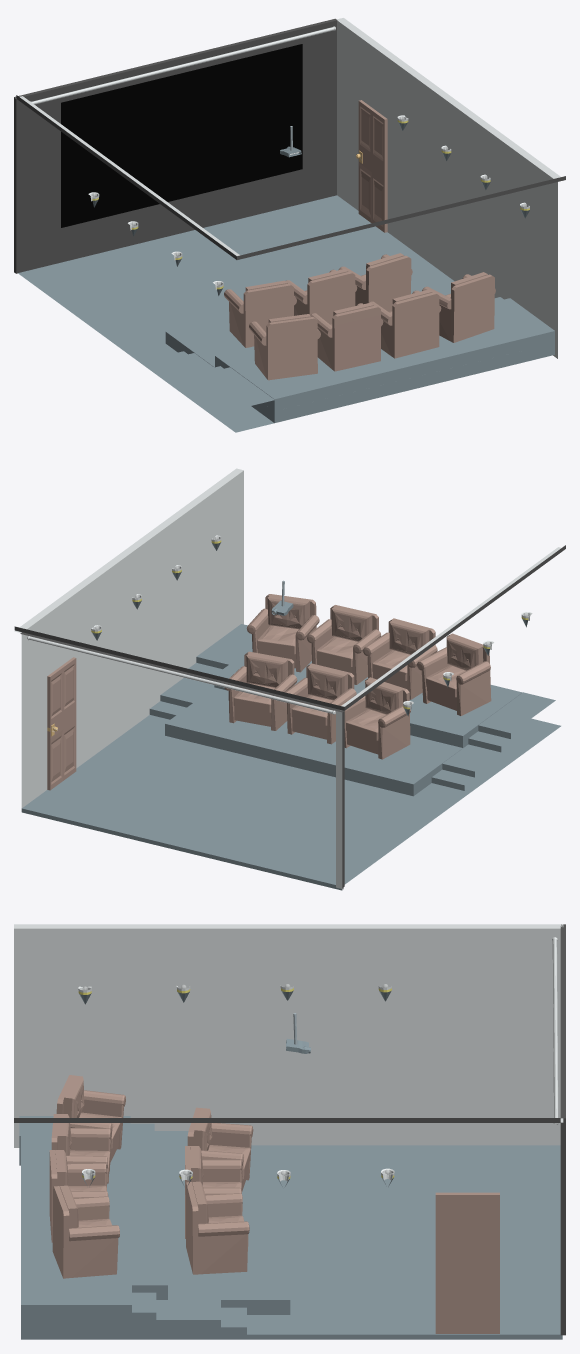
File: home-theater-new.gltf
The picture shows the model from 3 angles, top to bottom: view 1: azimuth 30°, elevation 25°; view 2: azimuth 150°, elevation 25°; view 3: azimuth 270°, elevation 25°; orthographic projection. The views are drawn at different scales.
Parts seen in each view (by area): view 1: mesh2057757694; view 2: mesh2057757694; view 3: mesh2057757694.
Boxes of the visible parts, <box> form: mesh2057757694: <box>14,18,565,432</box>; mesh2057757694: <box>14,468,565,890</box>; mesh2057757694: <box>14,924,565,1339</box>.
Size of the model in its own units: 6.06 by 3.32 by 7.11.
